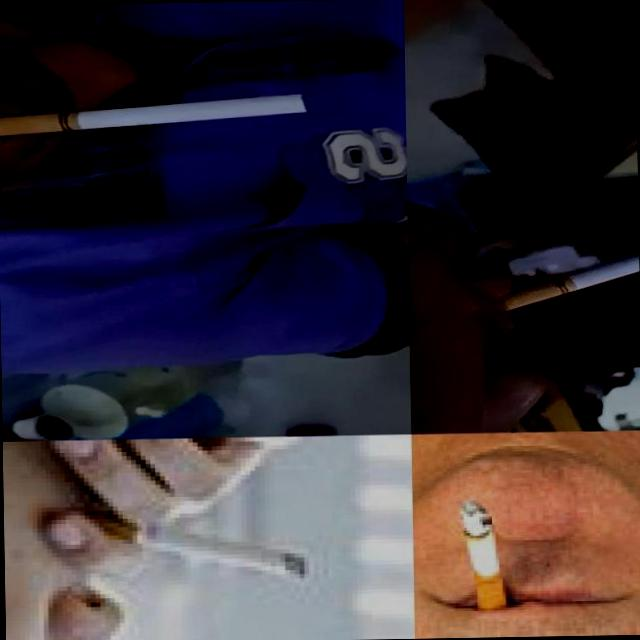smoke: (72, 504, 308, 583), (0, 92, 313, 135), (496, 222, 639, 309), (460, 499, 508, 617)
